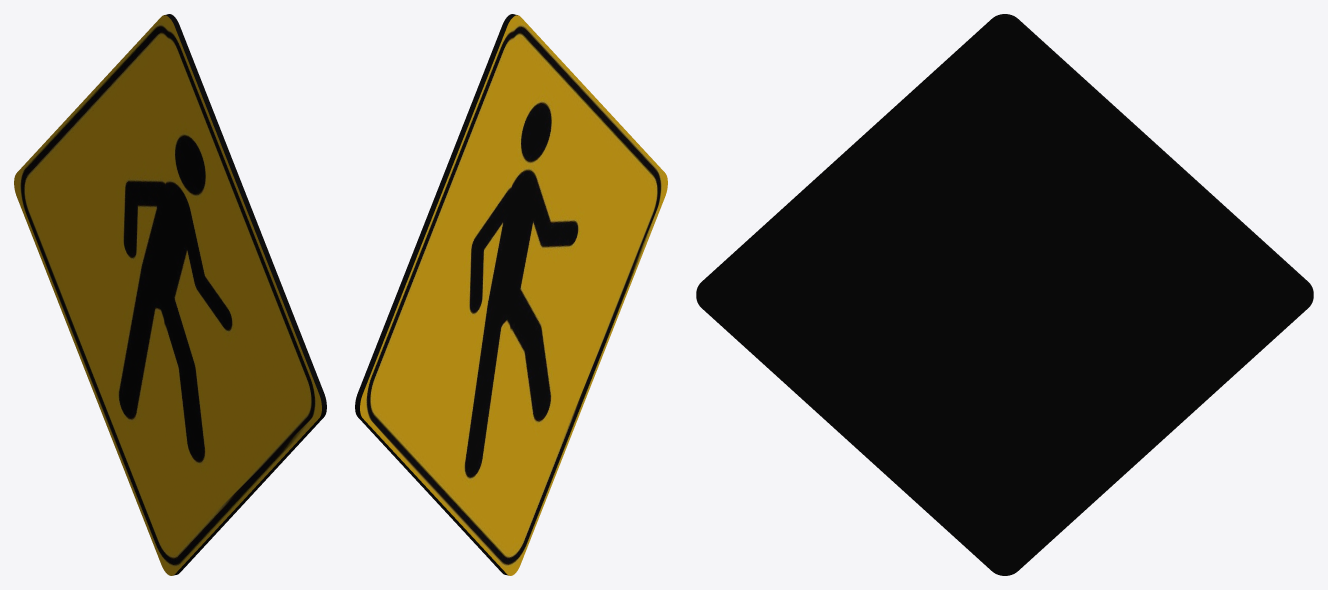
File: rambu_lalu_lintas_belah_ketupat.fbx
The picture shows the model from 3 angles, left to right: view 1: azimuth 30°, elevation 25°; view 2: azimuth 150°, elevation 25°; view 3: azimuth 270°, elevation 25°; orthographic projection.
Parts seen in each view (by area): view 1: Plane; view 2: Plane; view 3: Plane.
Boxes of the visible parts, bbox=[...] form: Plane: bbox=[14, 14, 326, 575]; Plane: bbox=[355, 14, 667, 575]; Plane: bbox=[696, 14, 1313, 575].
Bounding box in the file's own units: 2.56 × 276 × 276.
Materials: 2 (1 with a texture image).
